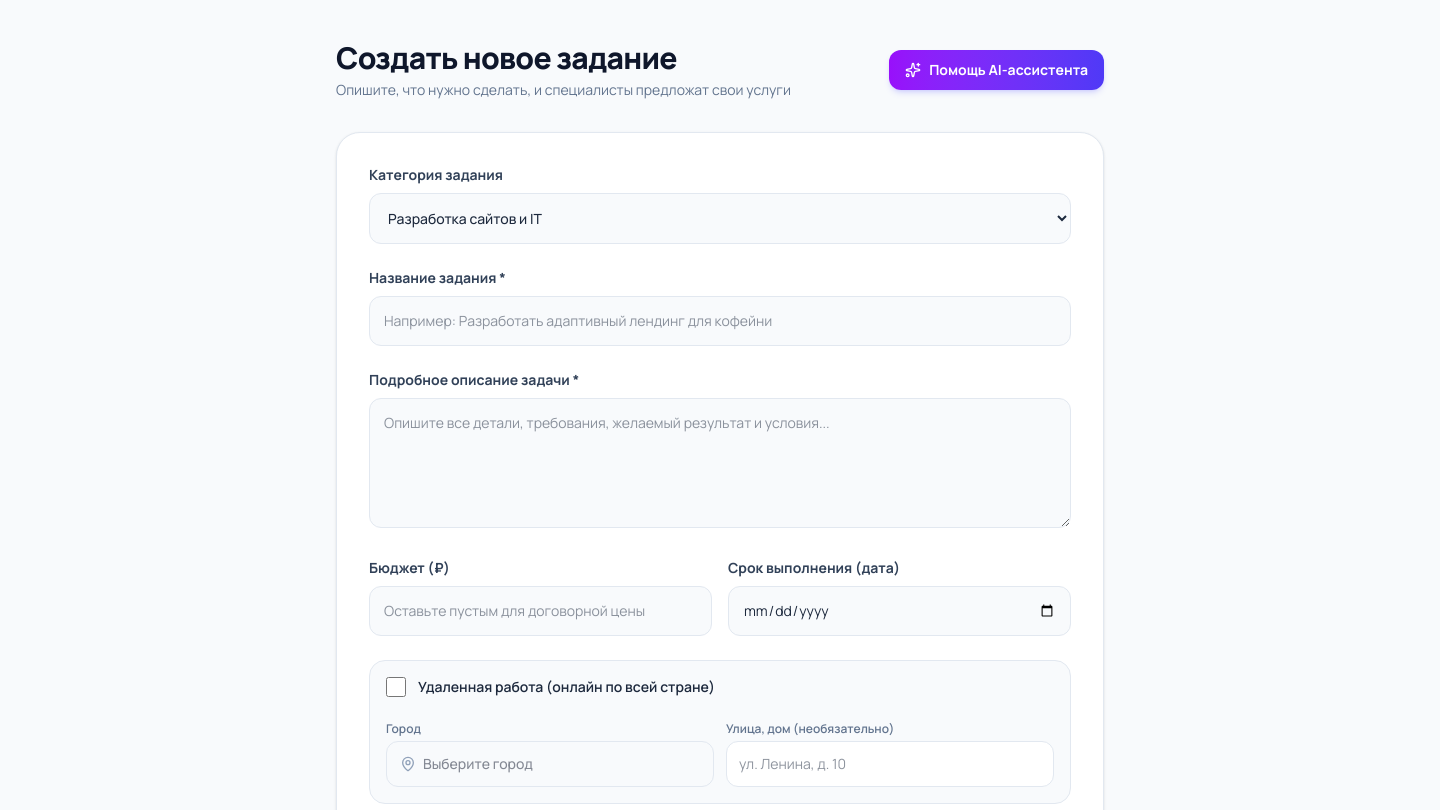
CreateTaskPage › ошибка бэкенда показывается текстом бэкенда, задание не считается созданным
Type "Починить кран" into the field with placeholder "Например: Разработать адаптивный лендинг для кофейни".
click(720, 321); type("Починить кран")  # box [369,296,1071,346]
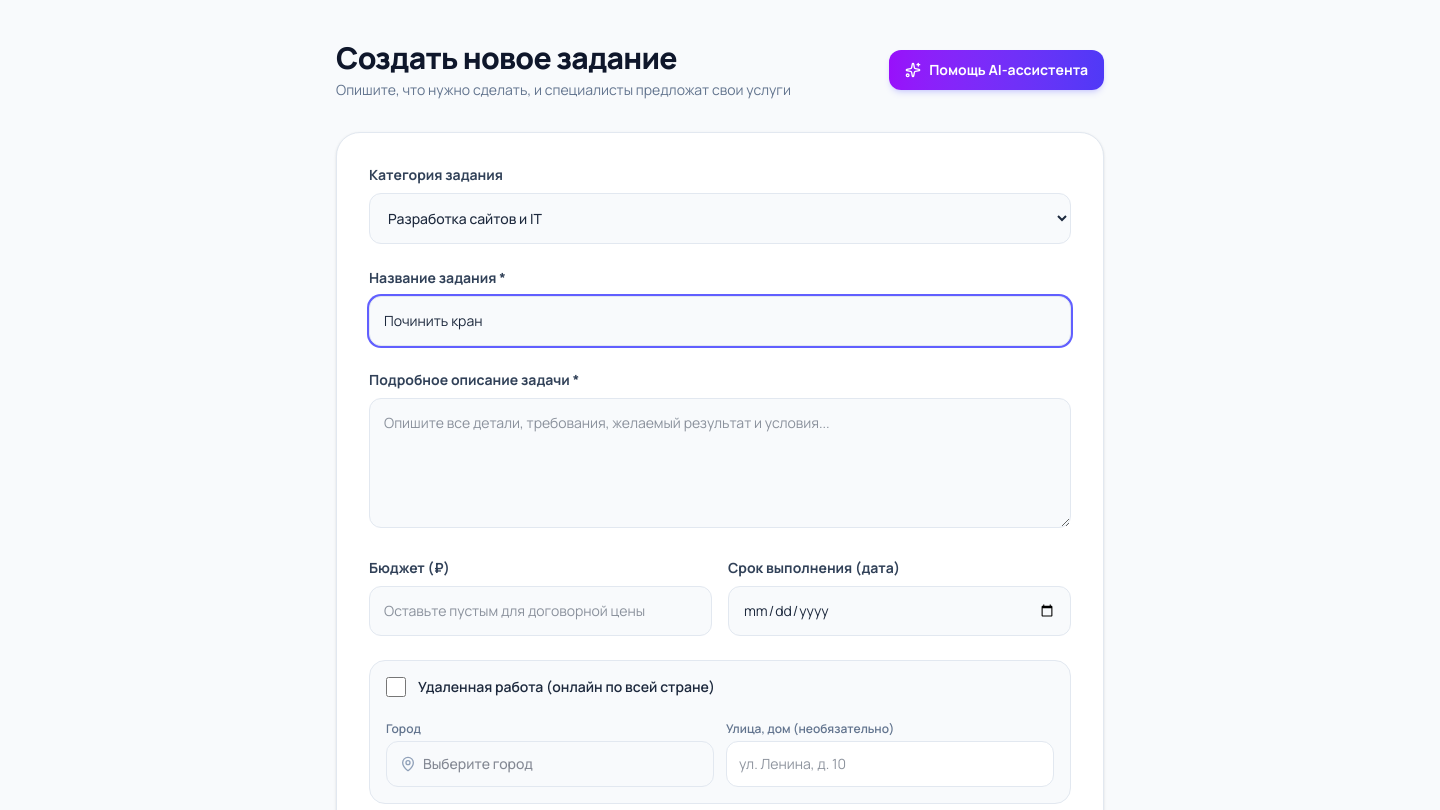
Type "Течёт смеситель на кухне" into the text box with placeholder "Опишите все детали, требования".
click(720, 463); type("Течёт смеситель на кухне")  # box [369,398,1071,528]
(page scrolled)
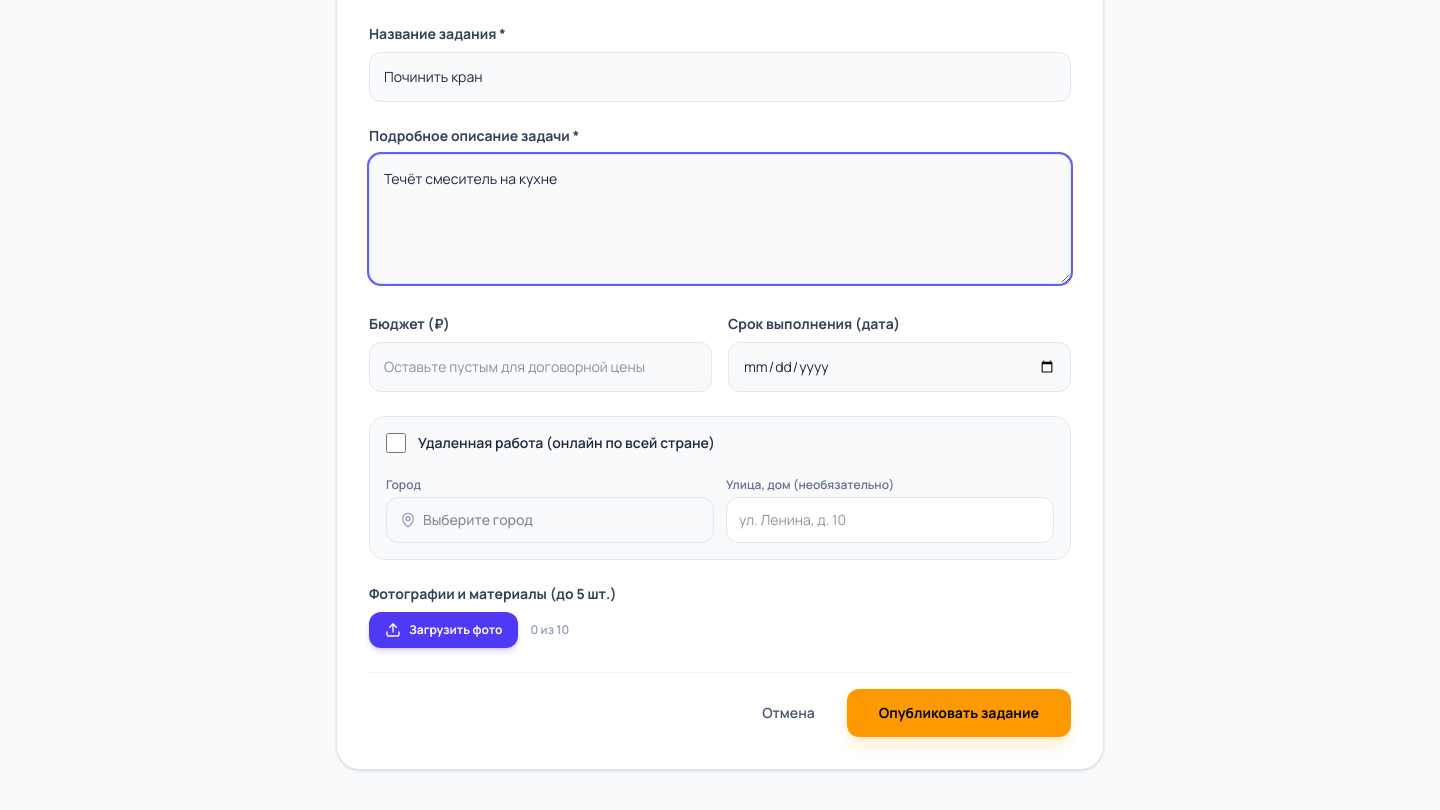
Click the button "Опубликовать задание".
click(959, 713)  # box [847,689,1071,737]
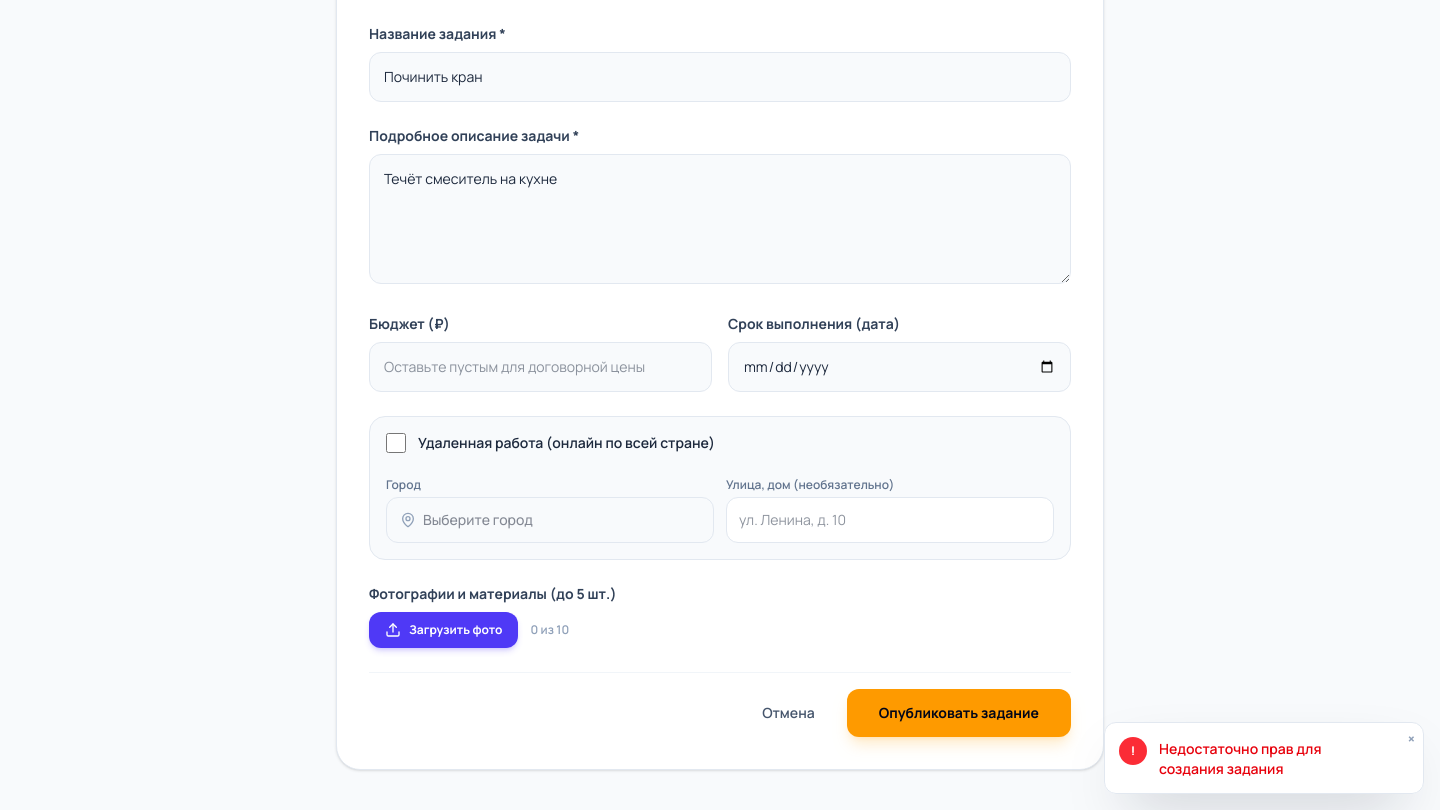
expect the text "Недостаточно прав для создания задания" is shown: met, box [1159,739,1321,778]
